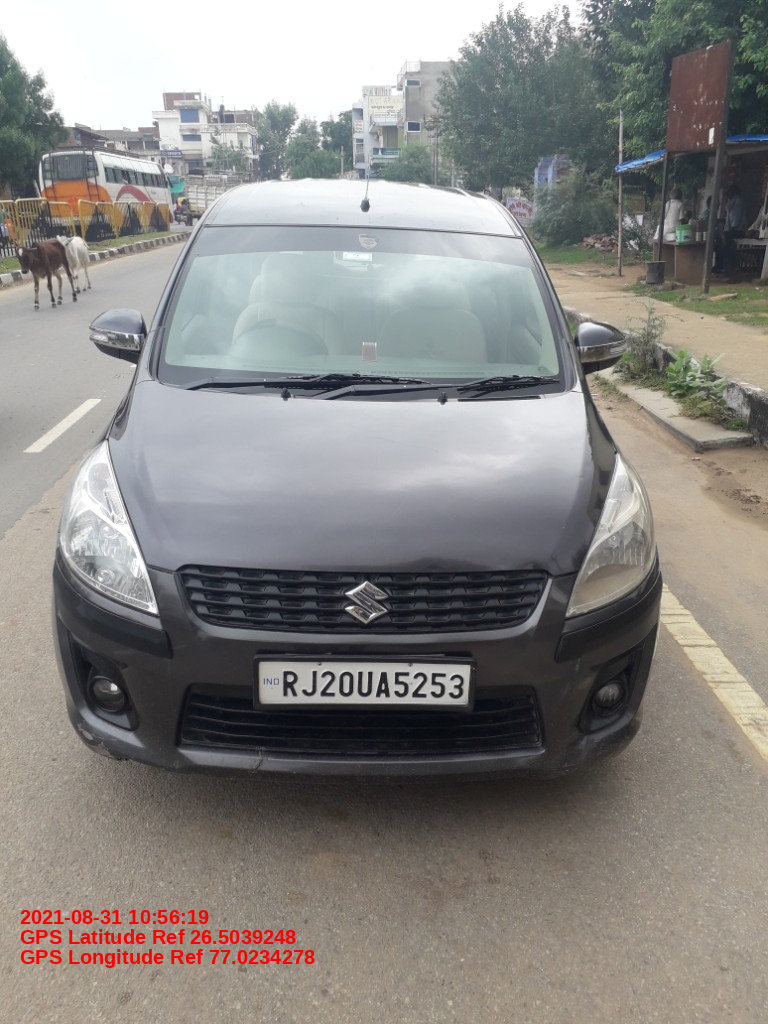Cracked: (243, 747, 273, 779)
Scratched: (72, 718, 141, 765), (558, 736, 605, 776), (559, 656, 585, 700), (509, 751, 545, 775), (179, 632, 218, 650), (72, 591, 91, 621), (109, 649, 146, 660)
